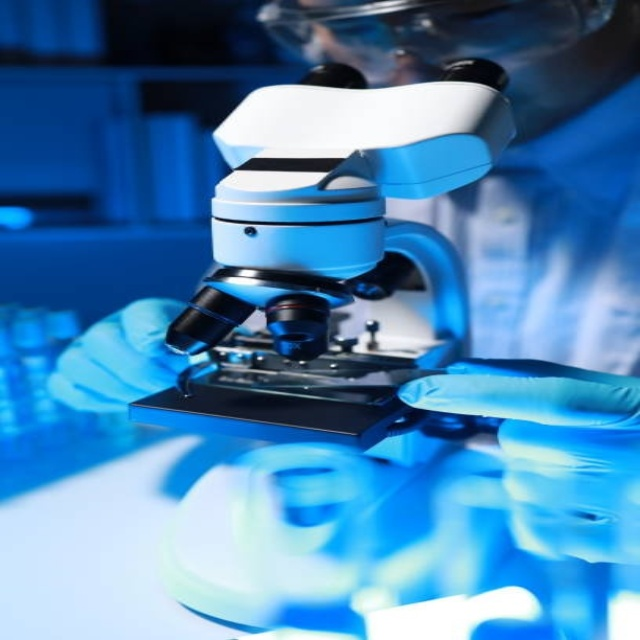Gafas: (257, 0, 620, 80)
Guantes: (392, 363, 637, 568), (44, 297, 211, 411)
